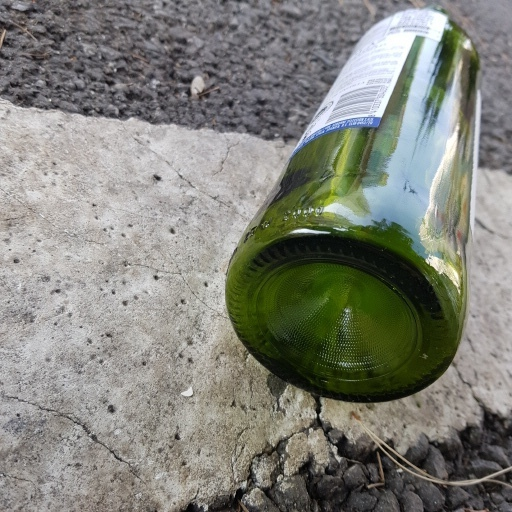Glass_2: (222, 2, 484, 404)
